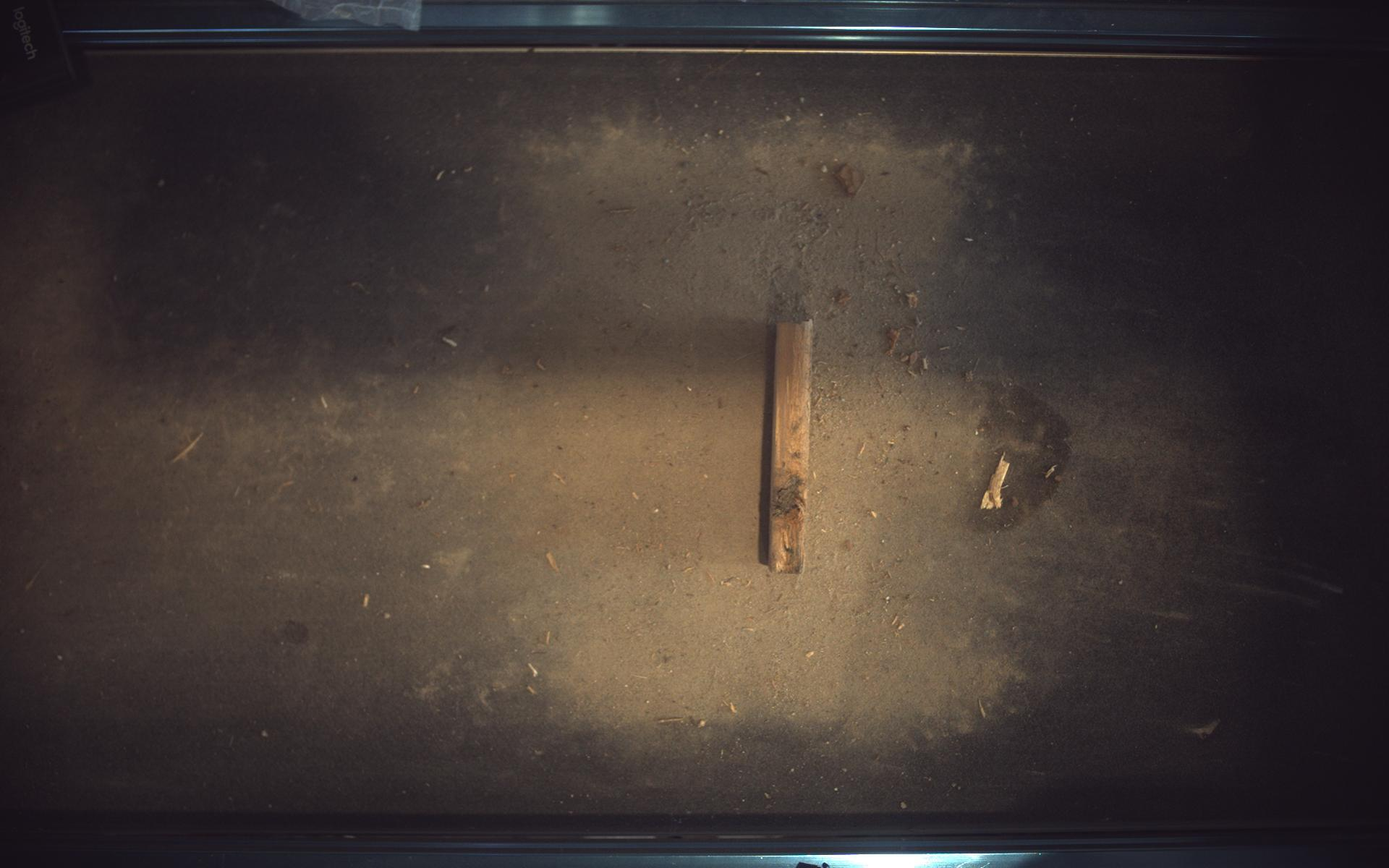wood: (770, 320, 813, 574)
